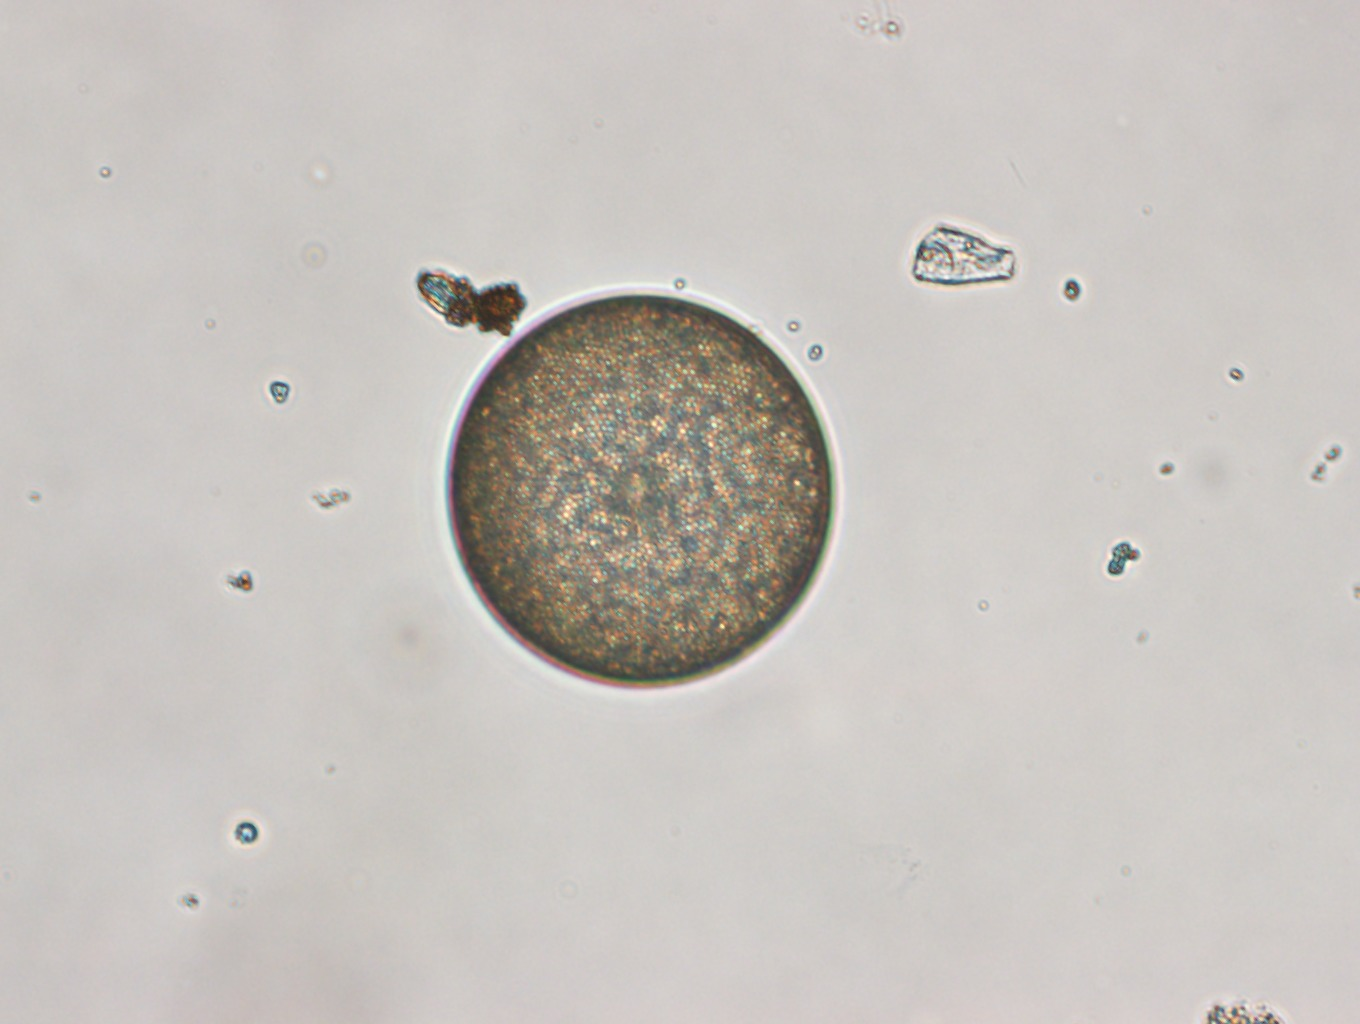coscinodiscus: (443, 291, 835, 691)
